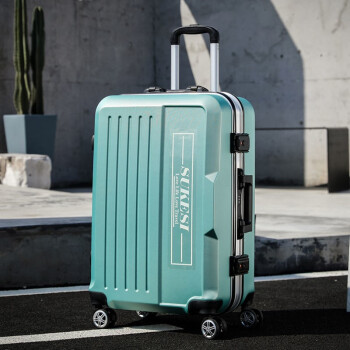box: (88, 92, 254, 314)
handle: (237, 168, 253, 241), (145, 85, 208, 93)
lock: (229, 255, 250, 275), (230, 133, 250, 153)
wheel: (200, 317, 228, 340), (92, 308, 117, 329), (239, 308, 263, 328)
